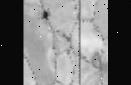good_void: (37, 8, 53, 22)
